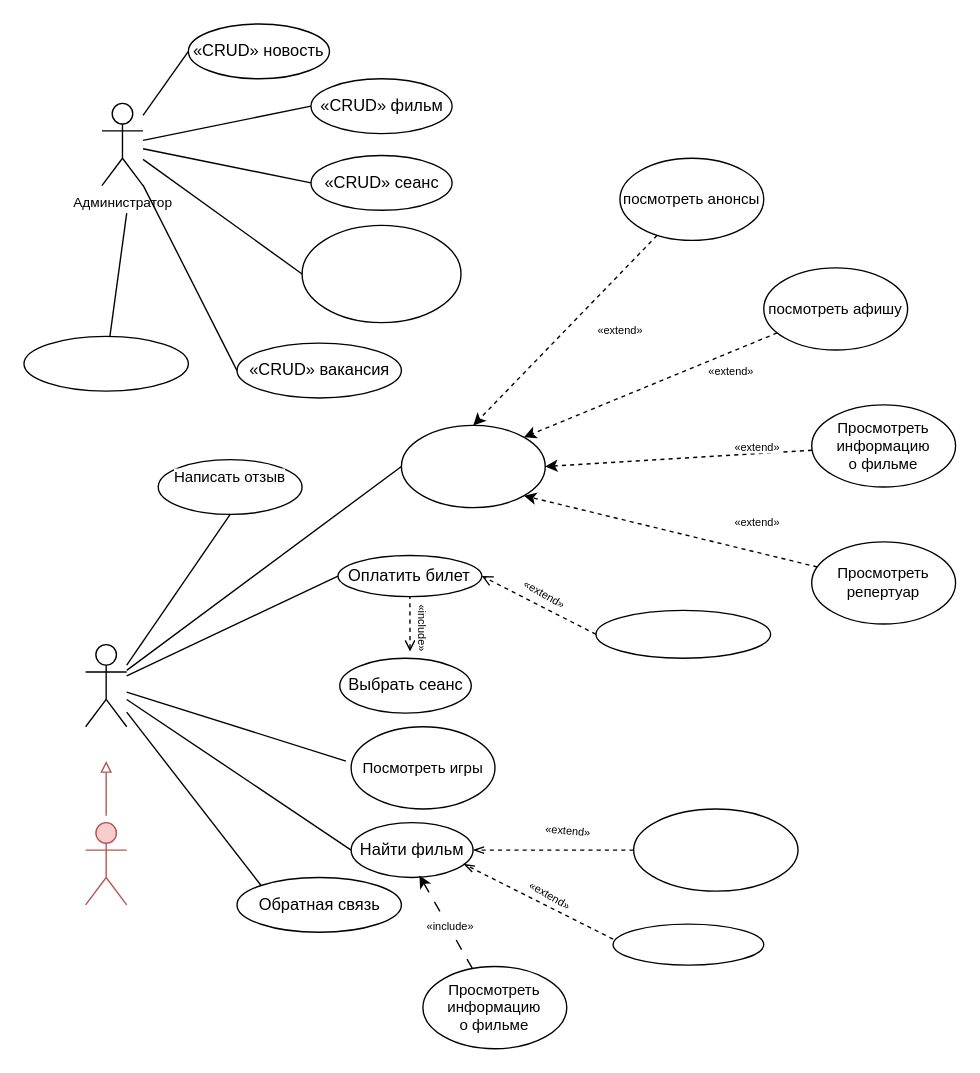
The diagram is 980 pixels wide and 1073 high, and some of its shapes have lost their labels. Each missing label, with the centre of its shape:
"«CRUD» корпоративное предложение" goes at (x=381, y=273).
"«CRUD» отзыв, «Вопрос-ответ»" goes at (x=105, y=363).
"Гость" goes at (x=105, y=685).
"Клиент (зарегистрированный пользователь)" goes at (x=105, y=863).
"Ознакомиться с отзывами/рецензиями" goes at (x=715, y=849).
"Оценить показ" goes at (x=688, y=944).
"посмотреть предложения" goes at (x=472, y=466).
"Сделать предзаказ" goes at (x=683, y=633).
